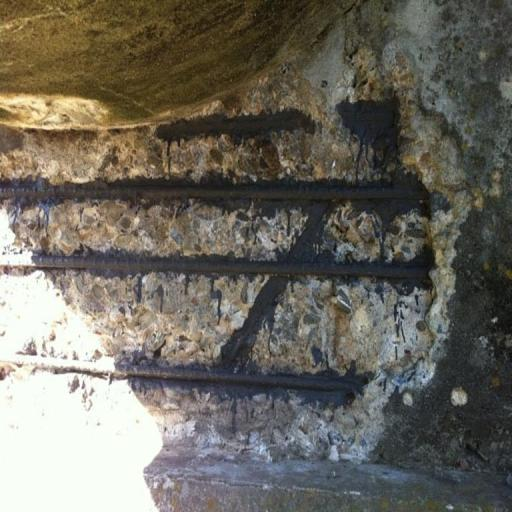spalling: (0, 90, 464, 467)
